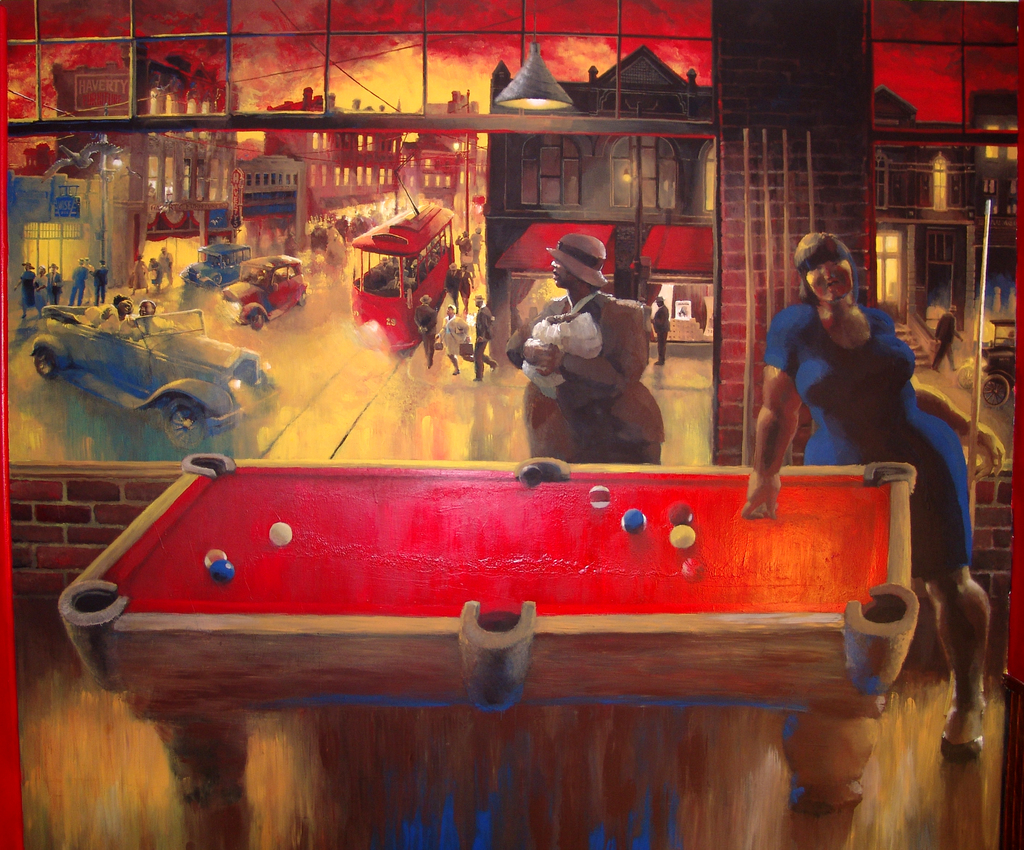Ball: (670, 523, 697, 552), (621, 507, 647, 537), (209, 558, 235, 585), (587, 485, 614, 511), (270, 521, 293, 548), (668, 507, 696, 527), (201, 549, 225, 569)
